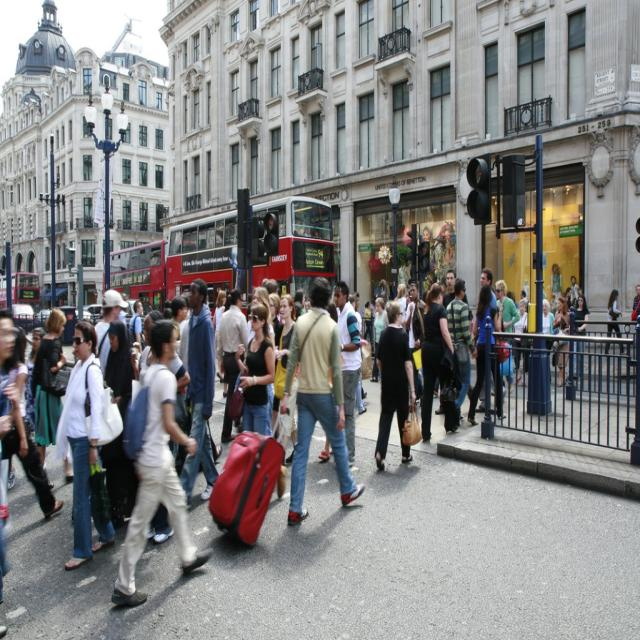body: (109, 317, 219, 609), (277, 272, 368, 526), (53, 316, 125, 572), (143, 277, 224, 495), (222, 267, 457, 341), (130, 308, 191, 544), (167, 277, 223, 520), (0, 323, 65, 522), (234, 302, 288, 500), (373, 298, 425, 472), (30, 307, 74, 489), (418, 280, 462, 443), (316, 340, 369, 469), (331, 278, 364, 468), (465, 282, 507, 426), (434, 268, 474, 416), (0, 307, 17, 638), (270, 294, 301, 468), (505, 254, 582, 322), (216, 289, 249, 445), (445, 276, 479, 411), (474, 267, 498, 413), (93, 288, 130, 380), (402, 279, 428, 407), (103, 319, 134, 422), (23, 326, 48, 447), (494, 278, 520, 394), (402, 217, 457, 267), (370, 295, 392, 383), (551, 293, 571, 389), (602, 285, 628, 358), (571, 294, 590, 381), (512, 297, 529, 387), (212, 289, 227, 383), (265, 292, 285, 350), (462, 304, 478, 376), (128, 299, 146, 360), (268, 294, 286, 352), (294, 216, 326, 240), (542, 297, 556, 335), (362, 300, 373, 345), (392, 283, 407, 313), (633, 284, 640, 316)
